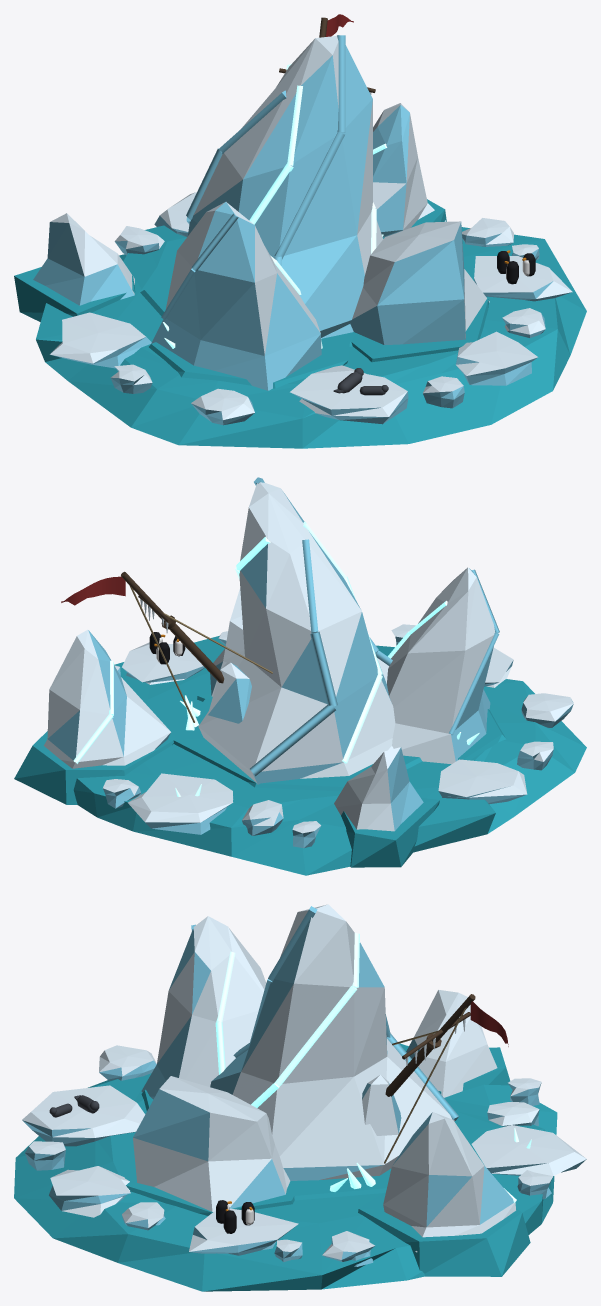
File: iceberg.glb
3 renders of one model, top to bottom at view 1: azimuth 30°, elevation 25°; view 2: azimuth 150°, elevation 25°; view 3: azimuth 270°, elevation 25°, orthographic. The views are drawn at different scales.
Visible parts, largest first — view 1: Mesh_Skirt, Mesh_BergMainShade, Mesh_BergMidShade, Mesh_BergShoulderShade, Mesh_BergMain, Mesh_BergShoulder, Mesh_BergSmallBShade, Mesh_BergMid, Mesh_Floe2, Mesh_BergSmallAShade, Mesh_Floe3, Mesh_BergMidFoot (+20 smaller); view 2: Mesh_Skirt, Mesh_BergMain, Mesh_BergMid, Mesh_BergSmallA, Mesh_BergMainShade, Mesh_Floe4, Mesh_BergSmallAFoot, Mesh_BergSmallBFoot, Mesh_BergSmallB, Mesh_BergMainFoot, Mesh_Floe3, Mesh_BergSmallAShade (+18 smaller); view 3: Mesh_Skirt, Mesh_BergMain, Mesh_BergShoulder, Mesh_BergMid, Mesh_BergSmallA, Mesh_BergSmallAFoot, Mesh_BergSmallB, Mesh_BergShoulderShade, Mesh_BergMainShade, Mesh_Floe2, Mesh_Floe4, Mesh_BergSmallAShade (+21 smaller).
Boxes of the visible parts, bbox=[...] form: Mesh_Skirt: bbox=[36, 225, 586, 448]; Mesh_BergMainShade: bbox=[188, 45, 372, 338]; Mesh_BergMidShade: bbox=[151, 202, 321, 390]; Mesh_BergShoulderShade: bbox=[350, 222, 465, 345]; Mesh_BergMain: bbox=[193, 36, 383, 274]; Mesh_BergShoulder: bbox=[352, 221, 489, 337]; Mesh_BergSmallBShade: bbox=[33, 222, 134, 305]; Mesh_BergMid: bbox=[166, 202, 320, 355]; Mesh_Floe2: bbox=[290, 365, 407, 416]; Mesh_BergSmallAShade: bbox=[373, 105, 409, 237]; Mesh_Floe3: bbox=[50, 312, 145, 363]; Mesh_BergMidFoot: bbox=[149, 336, 349, 388]; Mesh_Skirt: bbox=[73, 635, 586, 875]; Mesh_BergMain: bbox=[198, 482, 395, 783]; Mesh_BergMid: bbox=[387, 567, 494, 764]; Mesh_BergSmallA: bbox=[44, 629, 170, 768]; Mesh_BergMainShade: bbox=[240, 492, 390, 784]; Mesh_Floe4: bbox=[128, 773, 233, 822]; Mesh_BergSmallAFoot: bbox=[14, 731, 175, 804]; Mesh_BergSmallBFoot: bbox=[341, 797, 439, 867]; Mesh_BergSmallB: bbox=[334, 747, 400, 831]; Mesh_BergMainFoot: bbox=[173, 699, 422, 791]; Mesh_Floe3: bbox=[438, 759, 527, 797]; Mesh_BergSmallAShade: bbox=[48, 630, 170, 760]; Mesh_Skirt: bbox=[14, 1043, 557, 1291]; Mesh_BergMain: bbox=[232, 904, 454, 1179]; Mesh_BergShoulder: bbox=[133, 1076, 290, 1211]; Mesh_BergMid: bbox=[157, 916, 266, 1086]; Mesh_BergSmallA: bbox=[383, 1112, 515, 1252]; Mesh_BergSmallAFoot: bbox=[358, 1192, 530, 1276]; Mesh_BergSmallB: bbox=[414, 989, 497, 1097]; Mesh_BergShoulderShade: bbox=[133, 1089, 285, 1208]; Mesh_BergMainShade: bbox=[210, 917, 387, 1180]; Mesh_Floe2: bbox=[22, 1085, 145, 1137]; Mesh_Floe4: bbox=[471, 1125, 586, 1175]; Mesh_BergSmallAShade: bbox=[393, 1112, 513, 1226].
Bounding box in the file's own units: 28.94 × 15.91 × 28.58.
